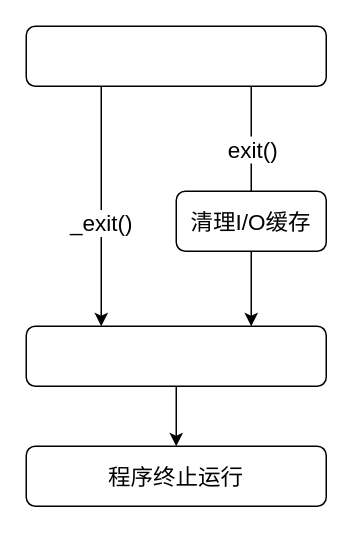
Some shapes in this 353 by 533 pixel diagram are drawn without their labels. Here are the shapes that lost their labels. From the top down, the box of each, then its label:
(25, 25, 326, 86): 进程运行
(25, 325, 326, 386): 调用sys_exit
